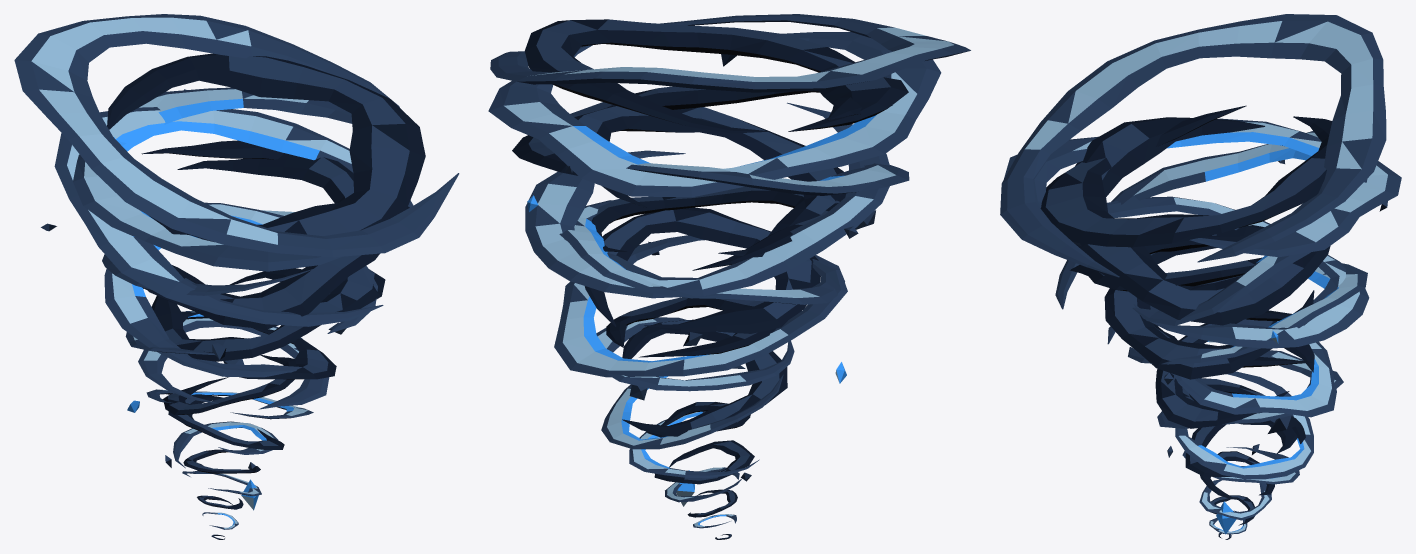
File: Tornado.fbx
The picture shows the model from 3 angles, left to right: view 1: azimuth 30°, elevation 25°; view 2: azimuth 150°, elevation 25°; view 3: azimuth 270°, elevation 25°; orthographic projection. The views are drawn at different scales.
Parts seen in each view (by area): view 1: Wind_Ribbon_22, Wind_Ribbon_21, Wind_Ribbon_18, Wind_Ribbon_20, Wind_Ribbon_17, Wind_Ribbon_14.001, Wind_Ribbon_13.001, Wind_Ribbon_10.002, Wind_Ribbon_11.001, Wind_Ribbon_15.001, Wind_Ribbon_09.002, Wind_Ribbon_19 (+6 smaller); view 2: Wind_Ribbon_20, Wind_Ribbon_16.001, Wind_Ribbon_21, Wind_Ribbon_22, Wind_Ribbon_12.001, Wind_Ribbon_13.001, Wind_Ribbon_17, Wind_Ribbon_19, Wind_Ribbon_14.001, Wind_Ribbon_15.001, Wind_Ribbon_18, Wind_Ribbon_09.002 (+7 smaller); view 3: Wind_Ribbon_22, Wind_Ribbon_21, Wind_Ribbon_19, Wind_Ribbon_20, Wind_Ribbon_18, Wind_Ribbon_16.001, Wind_Ribbon_15.001, Wind_Ribbon_12.001, Wind_Ribbon_08.002, Wind_Ribbon_11.001, Wind_Ribbon_14.001, Wind_Ribbon_17 (+7 smaller).
Boxes of the visible parts, box(x1,y1,x2,y2) form: Wind_Ribbon_22: box(14, 14, 459, 257); Wind_Ribbon_21: box(107, 53, 425, 236); Wind_Ribbon_18: box(54, 107, 413, 326); Wind_Ribbon_20: box(73, 87, 352, 271); Wind_Ribbon_17: box(142, 153, 379, 329); Wind_Ribbon_14.001: box(104, 202, 377, 377); Wind_Ribbon_13.001: box(151, 268, 320, 361); Wind_Ribbon_10.002: box(138, 311, 329, 409); Wind_Ribbon_11.001: box(181, 311, 336, 379); Wind_Ribbon_15.001: box(146, 269, 385, 312); Wind_Ribbon_09.002: box(162, 355, 296, 414); Wind_Ribbon_19: box(141, 140, 409, 242); Wind_Ribbon_20: box(488, 32, 941, 197); Wind_Ribbon_16.001: box(525, 102, 889, 298); Wind_Ribbon_21: box(525, 19, 892, 133); Wind_Ribbon_22: box(490, 14, 970, 92); Wind_Ribbon_12.001: box(554, 235, 847, 377); Wind_Ribbon_13.001: box(584, 207, 820, 333); Wind_Ribbon_17: box(574, 105, 846, 257); Wind_Ribbon_19: box(512, 77, 908, 175); Wind_Ribbon_14.001: box(559, 200, 844, 304); Wind_Ribbon_15.001: box(591, 186, 840, 270); Wind_Ribbon_18: box(540, 141, 909, 195); Wind_Ribbon_09.002: box(622, 319, 787, 436); Wind_Ribbon_22: box(1000, 14, 1386, 277); Wind_Ribbon_21: box(1040, 105, 1332, 247); Wind_Ribbon_19: box(1075, 117, 1330, 325); Wind_Ribbon_20: box(1004, 118, 1401, 257); Wind_Ribbon_18: box(1055, 131, 1367, 325); Wind_Ribbon_16.001: box(1107, 196, 1369, 348); Wind_Ribbon_15.001: box(1104, 225, 1314, 379); Wind_Ribbon_12.001: box(1173, 321, 1336, 417); Wind_Ribbon_08.002: box(1175, 371, 1313, 479); Wind_Ribbon_11.001: box(1155, 319, 1314, 428); Wind_Ribbon_14.001: box(1107, 263, 1367, 364); Wind_Ribbon_17: box(1070, 235, 1261, 291).
Size of the model in its own units: 701 by 907 by 724.
